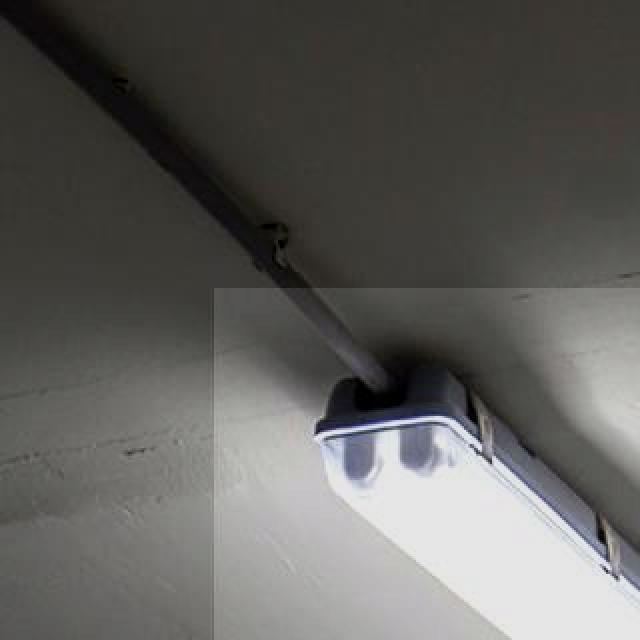fluorescent tube: (288, 354, 640, 640)
